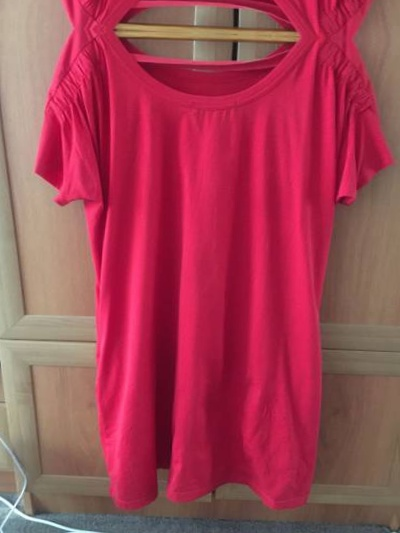Dress: (11, 34, 393, 522), (29, 0, 400, 33)
